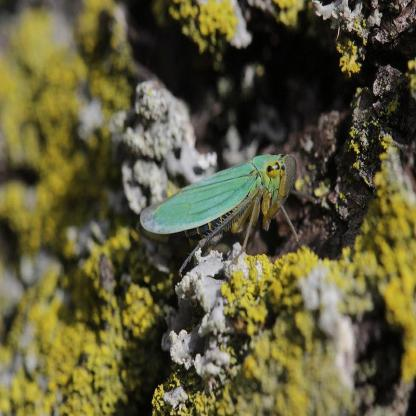Green-Leafhopper: (131, 149, 304, 277)
